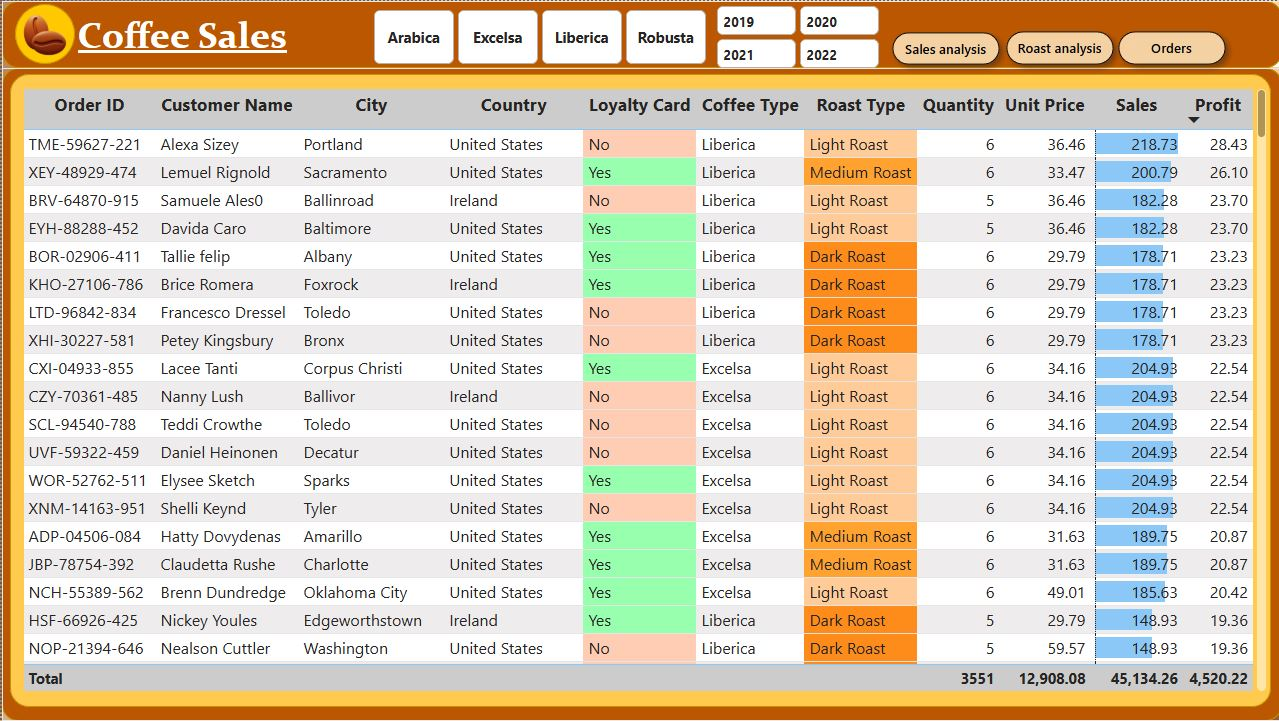

Layout of this report page (visuals, bound fields, positions):
{"tool":"powerbi","page":{"name":"Page 1","canvas":[1280,720],"ordinal":0},"visuals":[{"type":"group","id":"g1","title":"shapes","box":[0,0,1280,720],"z":0},{"type":"shape","box":[0,67.1,1280,652.9],"z":0,"group":"g1"},{"type":"shape","box":[7.8,73.3,1261.1,633.3],"z":0,"group":"g2"},{"type":"shape","box":[13.5,2.9,59.6,60.5],"z":500},{"type":"image","box":[17.7,8.9,51.4,50.5],"z":750},{"type":"shape","box":[0,0,1280,67.1],"z":1000,"group":"g1"},{"type":"actionButton","box":[881,22,126,51],"z":1000},{"type":"tableEx","fields":{"Values":["work sheet.Order ID","work sheet.Customer Name","work sheet.City","work sheet.Country","work sheet.Loyalty Card","work sheet.Coffee Type","work sheet.Roast Type","Sum(work sheet.Quantity)","Sum(work sheet.Unit Price)","Table.Total sales","Table.Total Profit"]},"box":[15.6,83.3,1253.3,612.2],"z":1000,"group":"g2"},{"type":"actionButton","box":[995,21,126,52],"z":2000},{"type":"actionButton","box":[1107,21,126,52],"z":3000},{"type":"advancedSlicerVisual","fields":{"Values":["work sheet.Coffee Type"]},"box":[366.7,4.4,342.2,63.3],"z":4000},{"type":"group","id":"g2","title":"Orders analysis","box":[7.8,73.3,1261.1,633.3],"z":11000},{"type":"advancedSlicerVisual","fields":{"Values":["work sheet.Order Date.Variation.Date Hierarchy.Year"]},"box":[710,0,172.2,73.3],"z":17000}]}

Visuals, with their boxes in screenshot pixels (x1, y1, x2, y2), scaled from the page's 1280x720 canvas onto the 1279x721 screenshot:
"shapes" group: <region>0, 0, 1278, 720</region>
shape: <region>0, 67, 1278, 720</region>
shape: <region>8, 73, 1268, 708</region>
shape: <region>13, 3, 73, 63</region>
image: <region>18, 9, 69, 59</region>
shape: <region>0, 0, 1278, 67</region>
actionButton: <region>880, 22, 1006, 73</region>
tableEx - work sheet.Order ID x work sheet.Customer Name: <region>16, 83, 1268, 696</region>
actionButton: <region>994, 21, 1120, 73</region>
actionButton: <region>1106, 21, 1232, 73</region>
advancedSlicerVisual - work sheet.Coffee Type: <region>366, 4, 708, 68</region>
"Orders analysis" group: <region>8, 73, 1268, 708</region>
advancedSlicerVisual - work sheet.Order Date.Variation.Date Hierarchy.Year: <region>709, 0, 882, 73</region>
